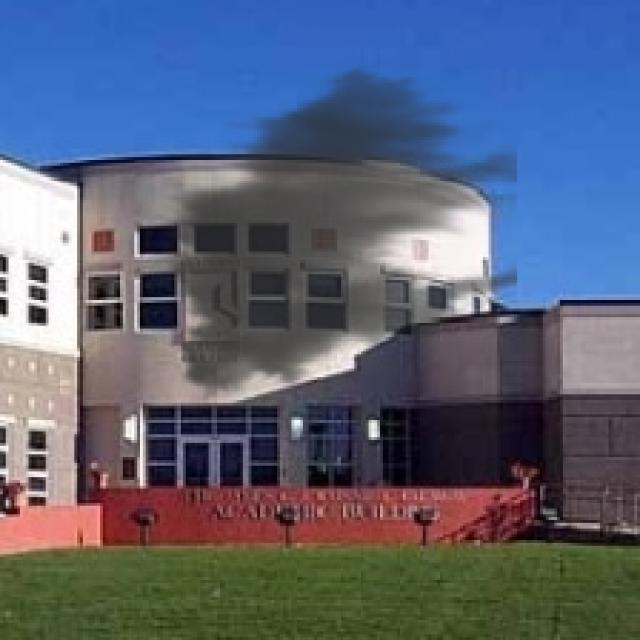Smoke: (145, 57, 518, 412)
